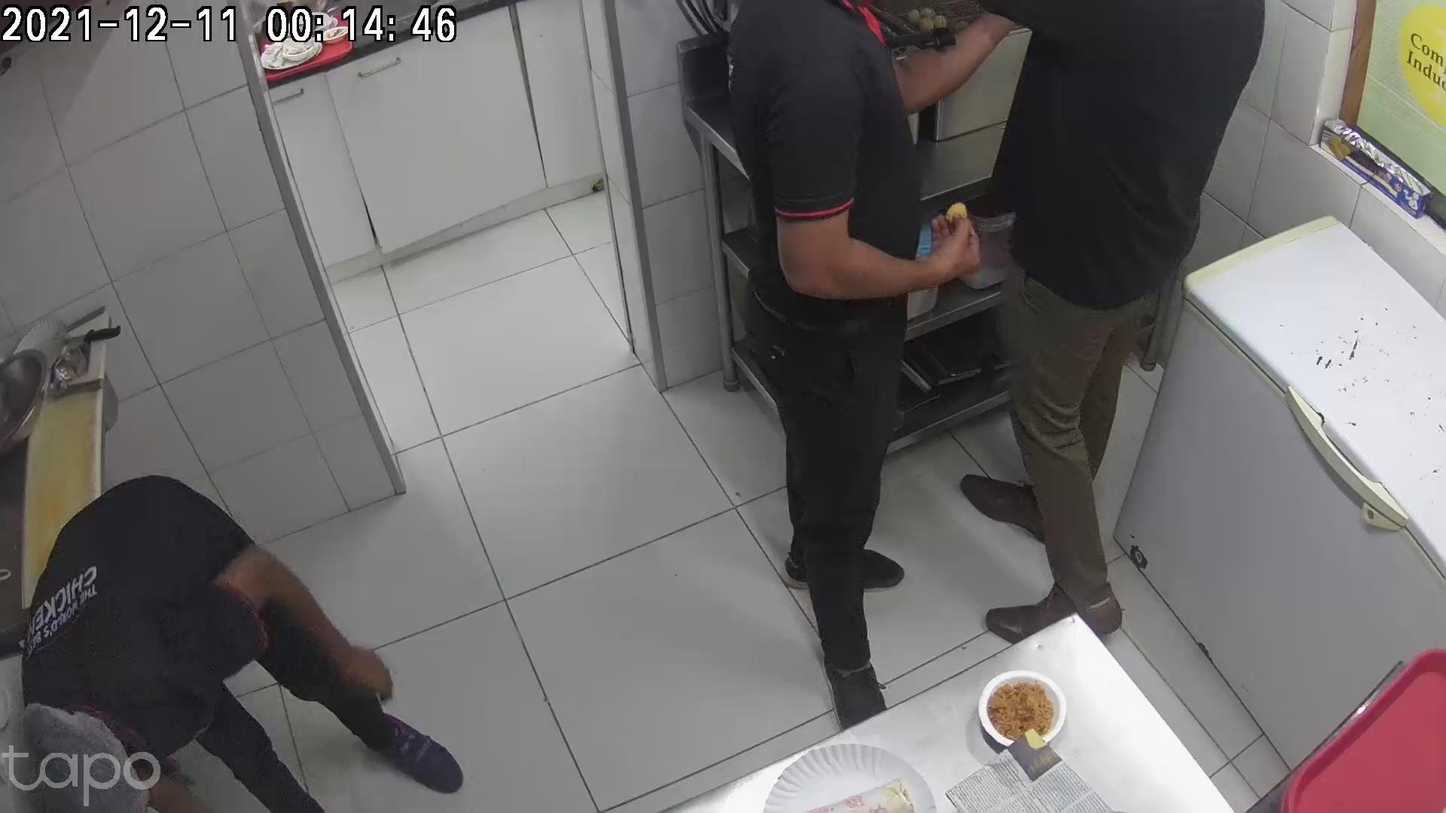no_gloves: (277, 628, 446, 777)
